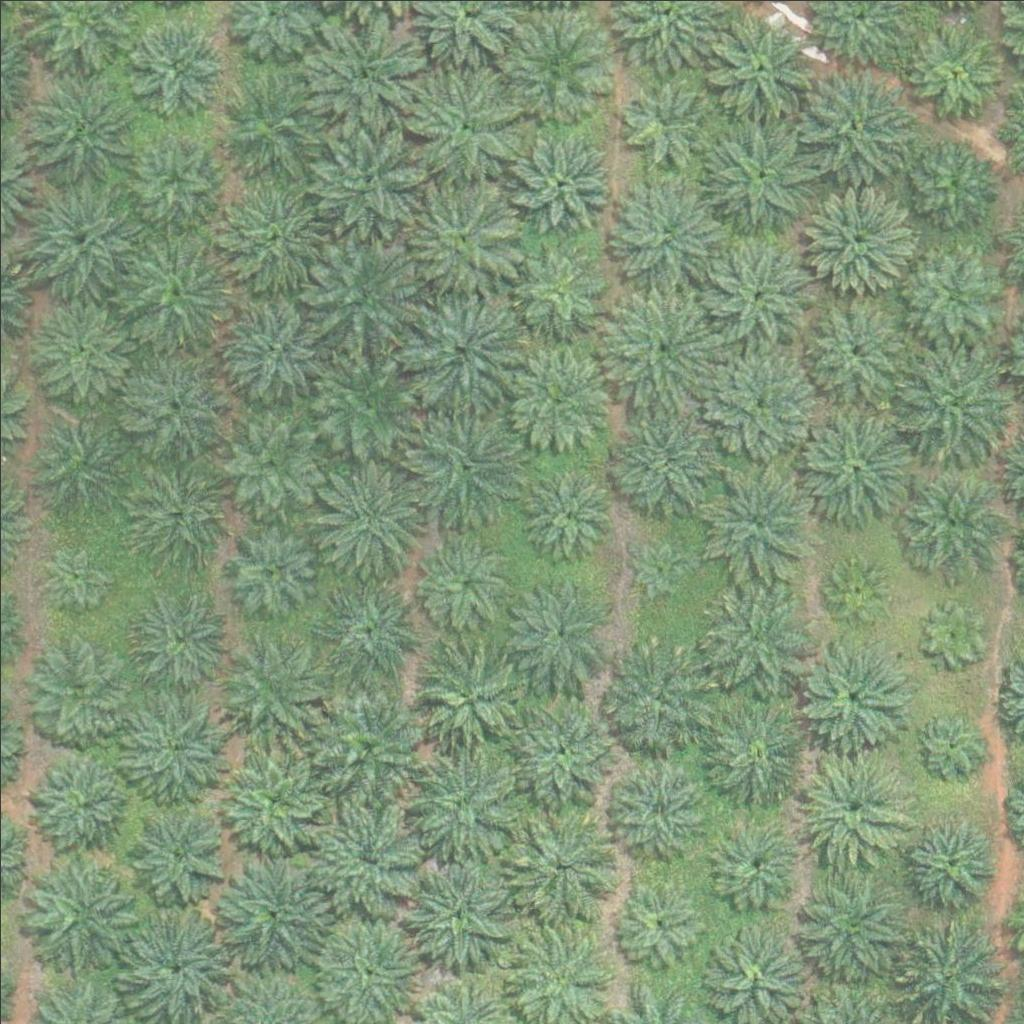Kelapa_Sawit: (313, 350, 426, 464), (407, 414, 520, 528), (501, 570, 614, 684), (306, 240, 419, 354), (21, 74, 134, 188), (889, 808, 1002, 921), (797, 746, 910, 859), (508, 809, 621, 922), (216, 861, 329, 974), (115, 686, 228, 799), (214, 740, 327, 853), (403, 741, 516, 854), (412, 642, 525, 755), (407, 293, 520, 406), (503, 690, 616, 803), (704, 469, 817, 582), (700, 346, 813, 459), (795, 635, 908, 748), (798, 409, 911, 522), (798, 179, 911, 292), (705, 234, 818, 347), (702, 120, 815, 233), (701, 15, 814, 128), (406, 180, 519, 293), (311, 121, 424, 234), (309, 15, 422, 128), (117, 242, 230, 355), (20, 182, 133, 295), (793, 872, 905, 986), (696, 804, 808, 918), (219, 289, 331, 403), (602, 635, 714, 749), (699, 692, 811, 806), (211, 181, 323, 295), (401, 854, 513, 967), (312, 799, 424, 912), (23, 853, 135, 966), (120, 345, 232, 458), (213, 629, 325, 742), (310, 689, 422, 802), (314, 577, 426, 690), (312, 465, 424, 578), (501, 338, 613, 451), (607, 404, 719, 517), (605, 291, 717, 404), (696, 580, 808, 693), (799, 290, 911, 403), (895, 463, 1007, 576), (896, 341, 1008, 454), (801, 66, 913, 179), (611, 173, 723, 286), (499, 10, 611, 123), (405, 68, 517, 181), (214, 67, 326, 180), (127, 801, 227, 902), (30, 753, 130, 854), (29, 641, 129, 742), (27, 415, 127, 516), (29, 299, 129, 400), (129, 592, 229, 693), (132, 459, 232, 560), (219, 515, 319, 616), (219, 412, 319, 513), (897, 245, 997, 346), (896, 135, 996, 236), (612, 67, 712, 168), (508, 245, 608, 346), (512, 134, 612, 235), (605, 757, 705, 857), (415, 534, 515, 634), (517, 465, 617, 565), (898, 21, 998, 121), (125, 15, 225, 115), (131, 130, 219, 218), (612, 879, 699, 967), (41, 535, 116, 610), (824, 558, 887, 621), (916, 712, 979, 775), (921, 601, 984, 664), (628, 538, 690, 601)
